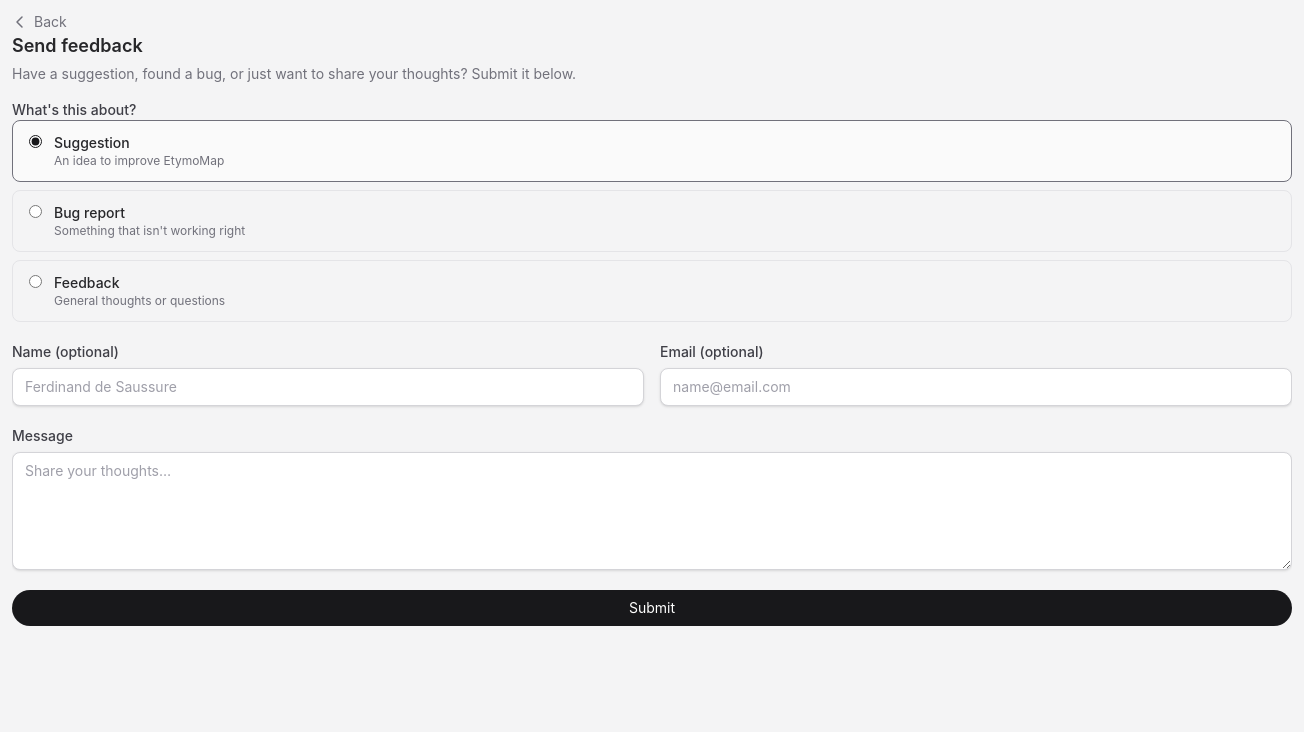
Test: FeedbackPage › shows the success screen when submission succeeds
Type "hello world" into the text box with placeholder "Share your thoughts…".
click(652, 511); type("hello world")  # box 12,452 -> 1292,570
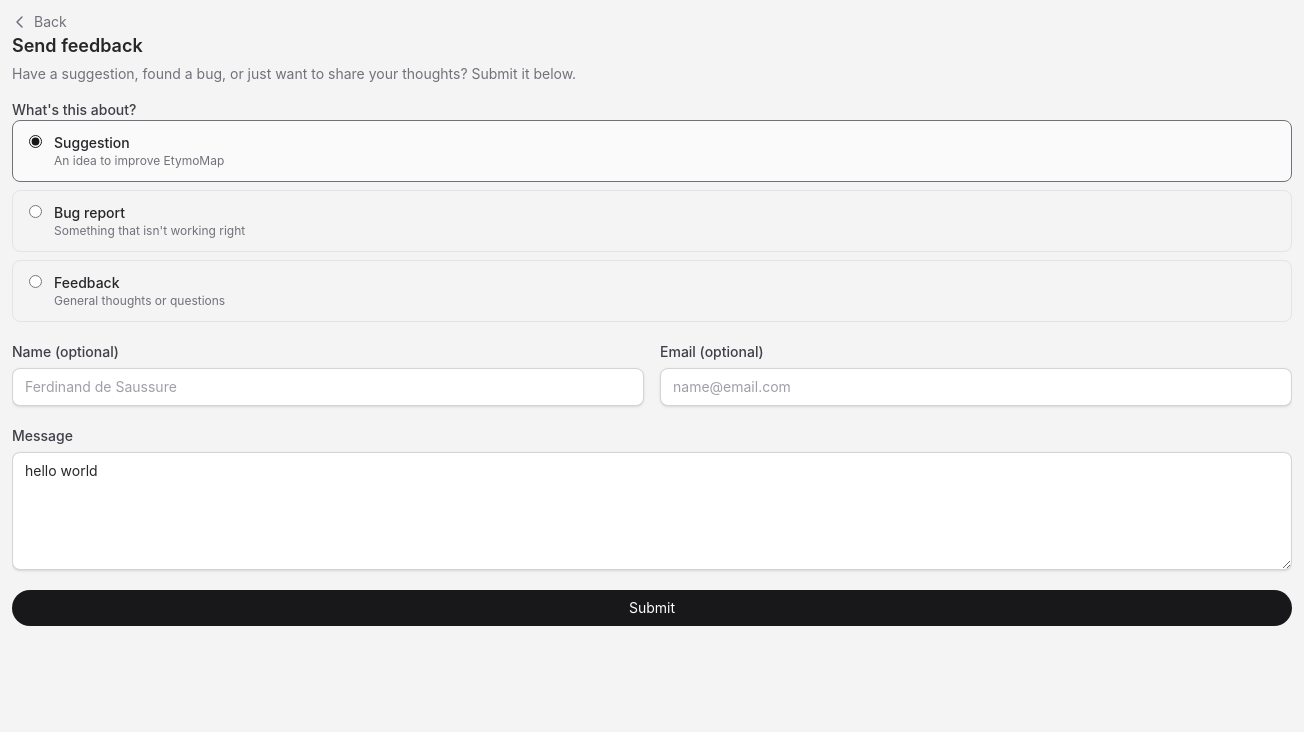
Click the button "Submit".
click(652, 608)  # box 12,590 -> 1292,626
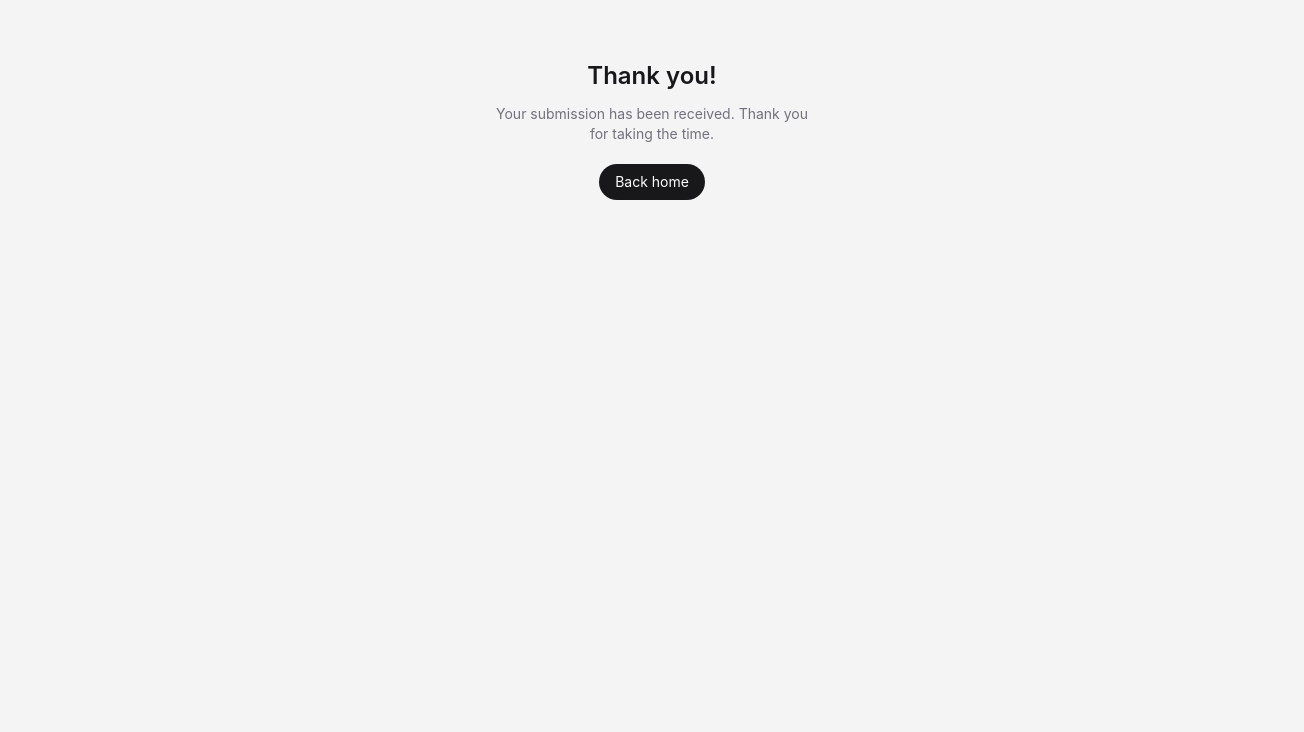
Expected: the heading "Thank you!" is shown, 587,60 -> 717,92
